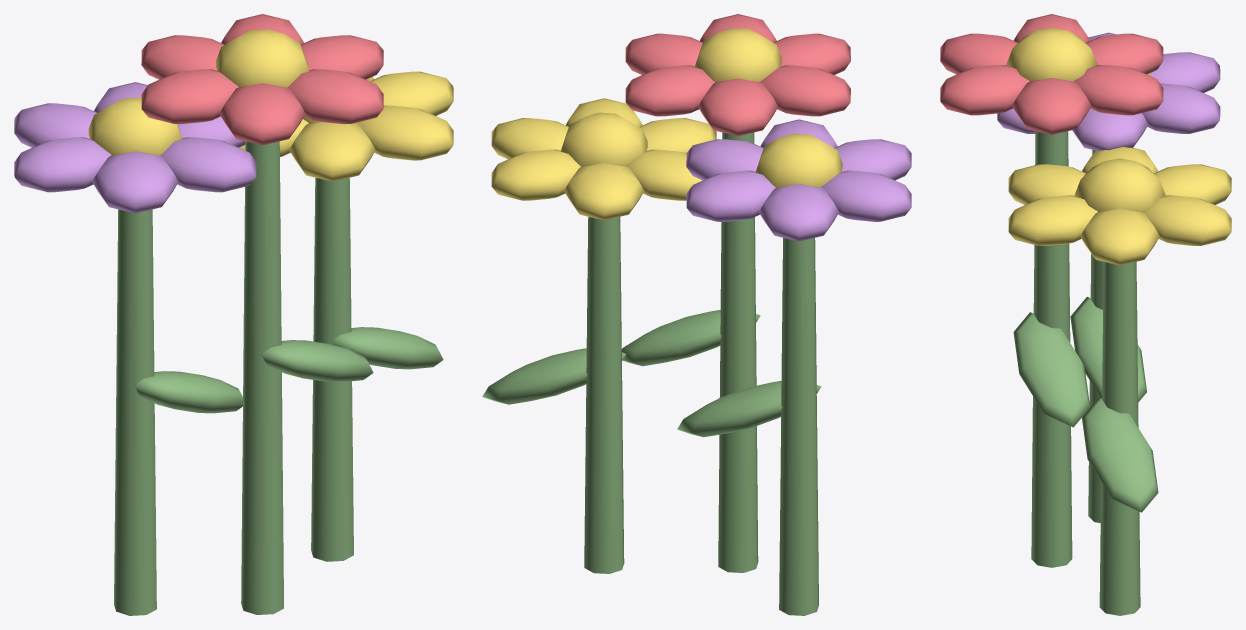
The model's file is Pickup_Flower.fbx.
The picture shows the model from 3 angles, left to right: view 1: azimuth 30°, elevation 25°; view 2: azimuth 150°, elevation 25°; view 3: azimuth 270°, elevation 25°; orthographic projection. The views are drawn at different scales.
Parts seen in each view (by area): view 1: Pickup_Flower; view 2: Pickup_Flower; view 3: Pickup_Flower.
Part boxes in pixels (bbox=[...]): Pickup_Flower: bbox=[14, 14, 453, 615]; Pickup_Flower: bbox=[482, 14, 911, 615]; Pickup_Flower: bbox=[940, 14, 1231, 615].
Bounding box in the file's own units: 41.6 × 51 × 25.61.
